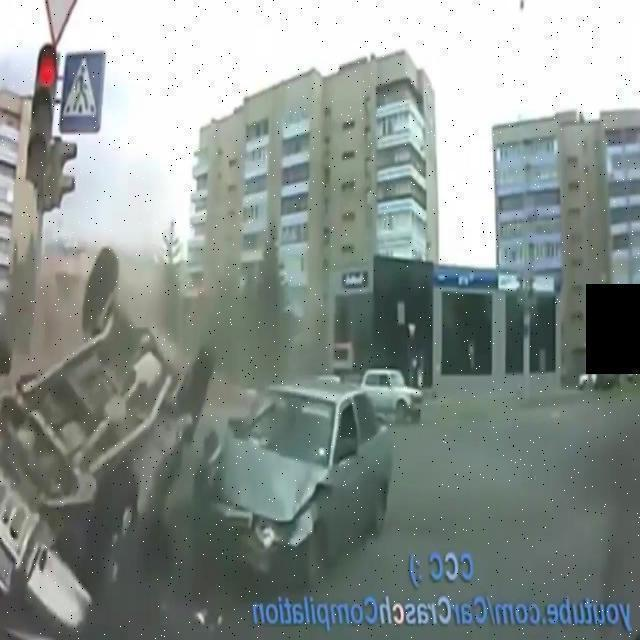accident: (1, 240, 397, 640)
